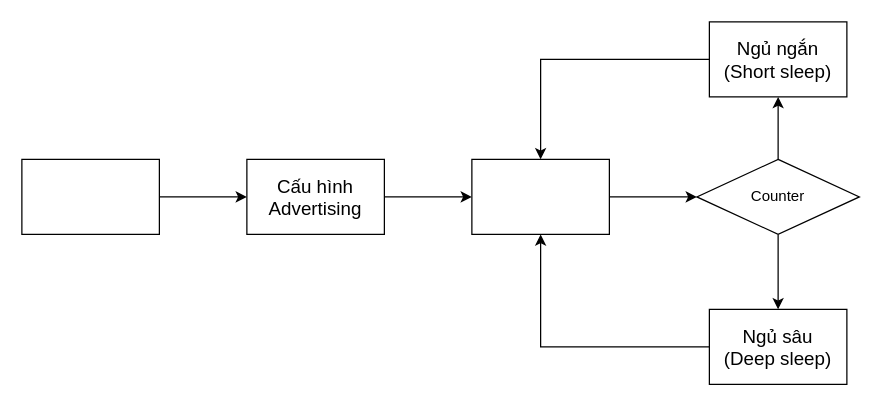
Image size: 881x406. Some labels were removed from this diagram. The centre of each missing label's shape, as x and y in pixels:
"Khởi động & Đọc khóa" goes at point 90,196.
"Phát tín hiệu (Advertising)" goes at point 540,196.
